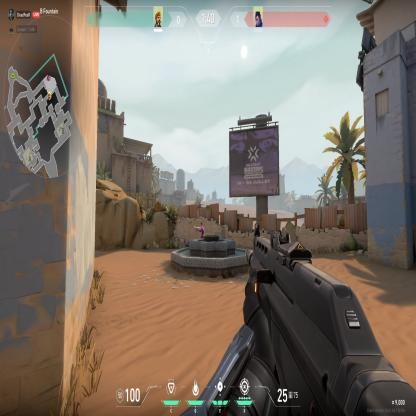enemy: (198, 223, 204, 238)
